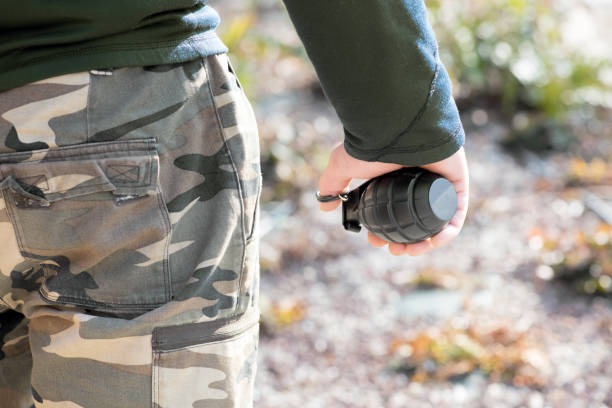e1: (320, 170, 461, 243)
